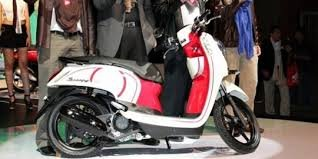motor: (27, 19, 270, 154)
